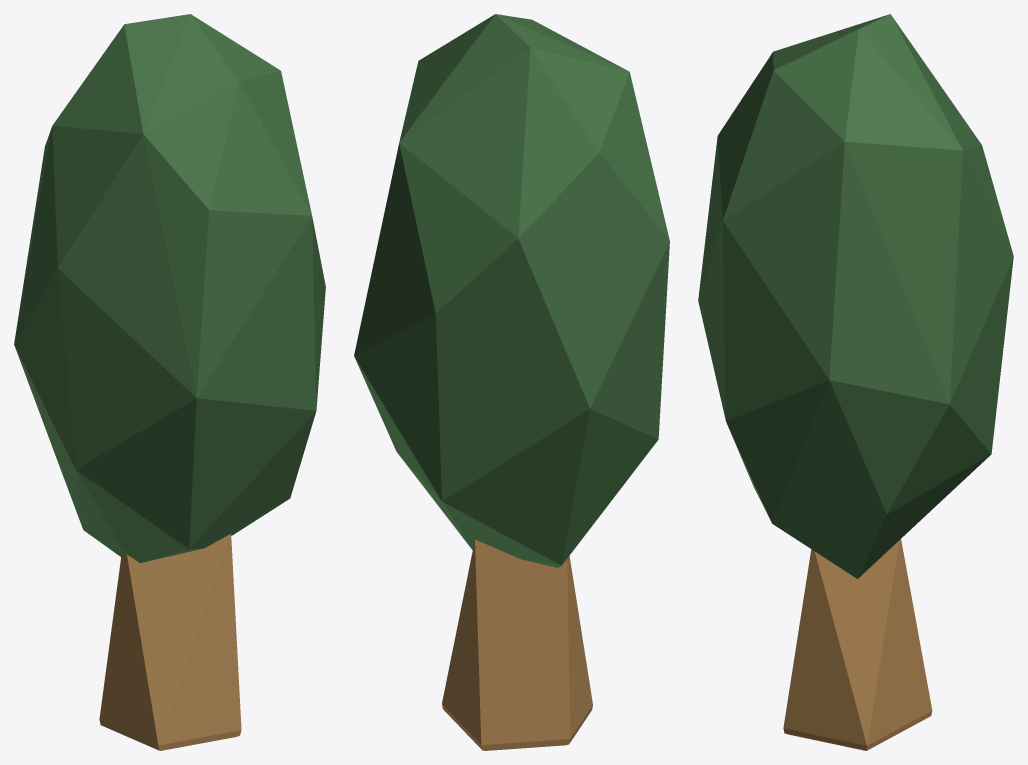
File: petit_arbre_02.glb
3 views of the same model, side by side, from view 1: azimuth 30°, elevation 25°; view 2: azimuth 150°, elevation 25°; view 3: azimuth 270°, elevation 25° (orthographic).
Visible parts, largest first — view 1: Sphere.002, Cylinder.002; view 2: Sphere.002, Cylinder.002; view 3: Sphere.002, Cylinder.002.
Boxes of the visible parts, x1,y1,x2,y2 form: Sphere.002: (14,14,325,562); Cylinder.002: (99,534,241,750); Sphere.002: (354,14,669,567); Cylinder.002: (442,539,592,750); Sphere.002: (698,14,1013,578); Cylinder.002: (783,539,932,750).
Bounding box in the file's own units: 2.4 × 5.88 × 2.4.
